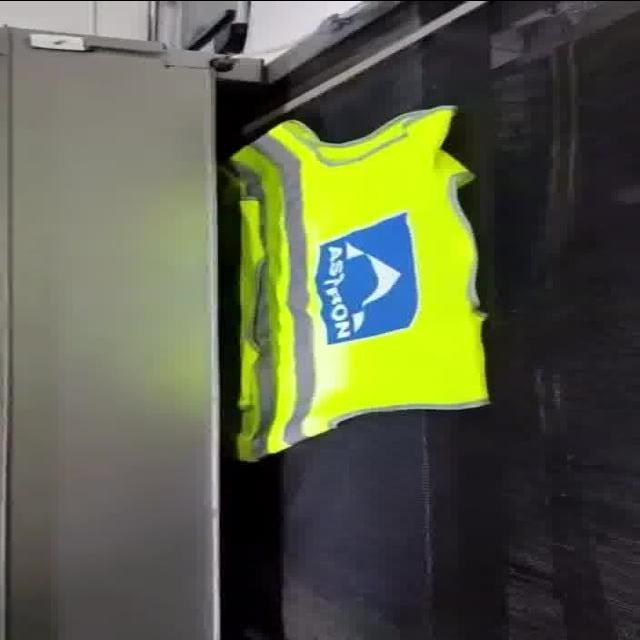vest: (231, 101, 494, 462)
